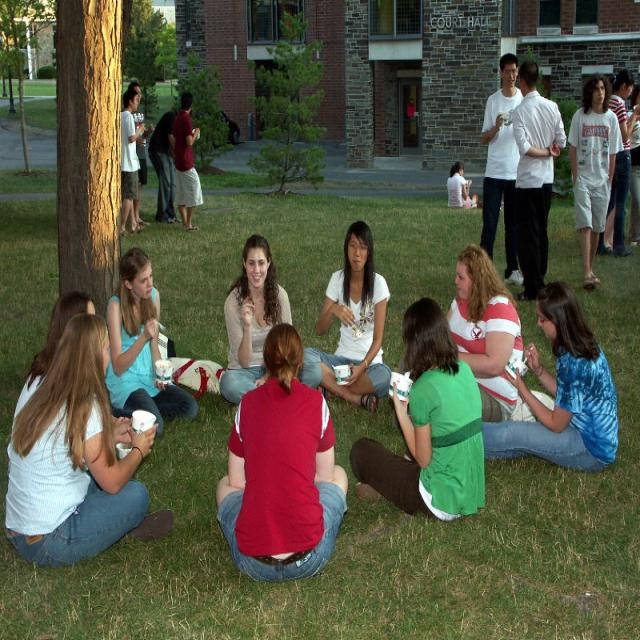body: (0, 310, 179, 576), (213, 319, 352, 589), (347, 292, 487, 525), (479, 278, 620, 475), (391, 241, 525, 420), (102, 245, 200, 442), (297, 217, 394, 414), (218, 232, 324, 406), (510, 58, 568, 304), (564, 70, 627, 294), (8, 290, 99, 437), (476, 51, 526, 286), (596, 67, 640, 259), (146, 106, 193, 225), (606, 80, 636, 254), (171, 89, 205, 234), (119, 86, 148, 239), (127, 80, 155, 227), (626, 86, 640, 248), (446, 160, 479, 209), (402, 88, 417, 114)
